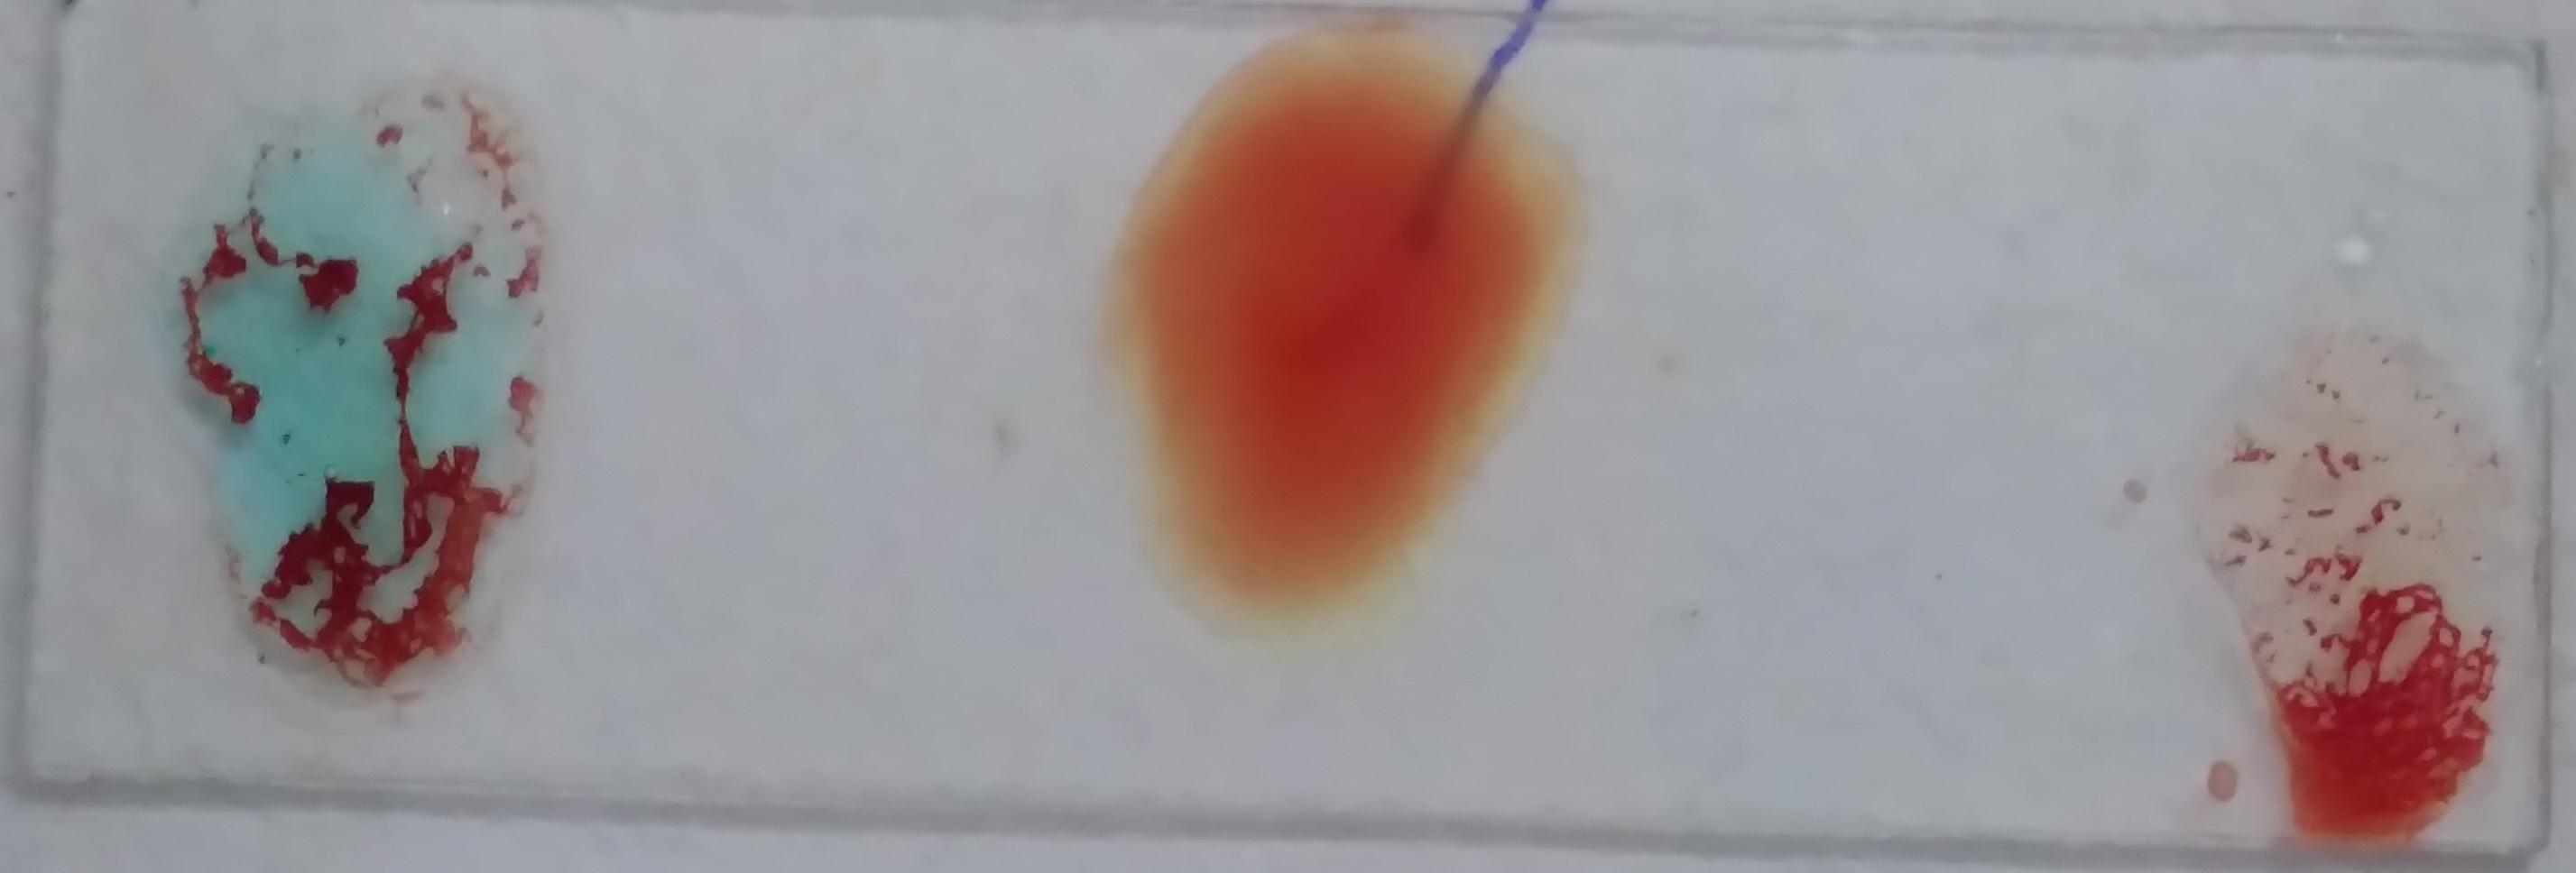A: (2024, 179, 2426, 791)
D: (39, 7, 416, 551)
